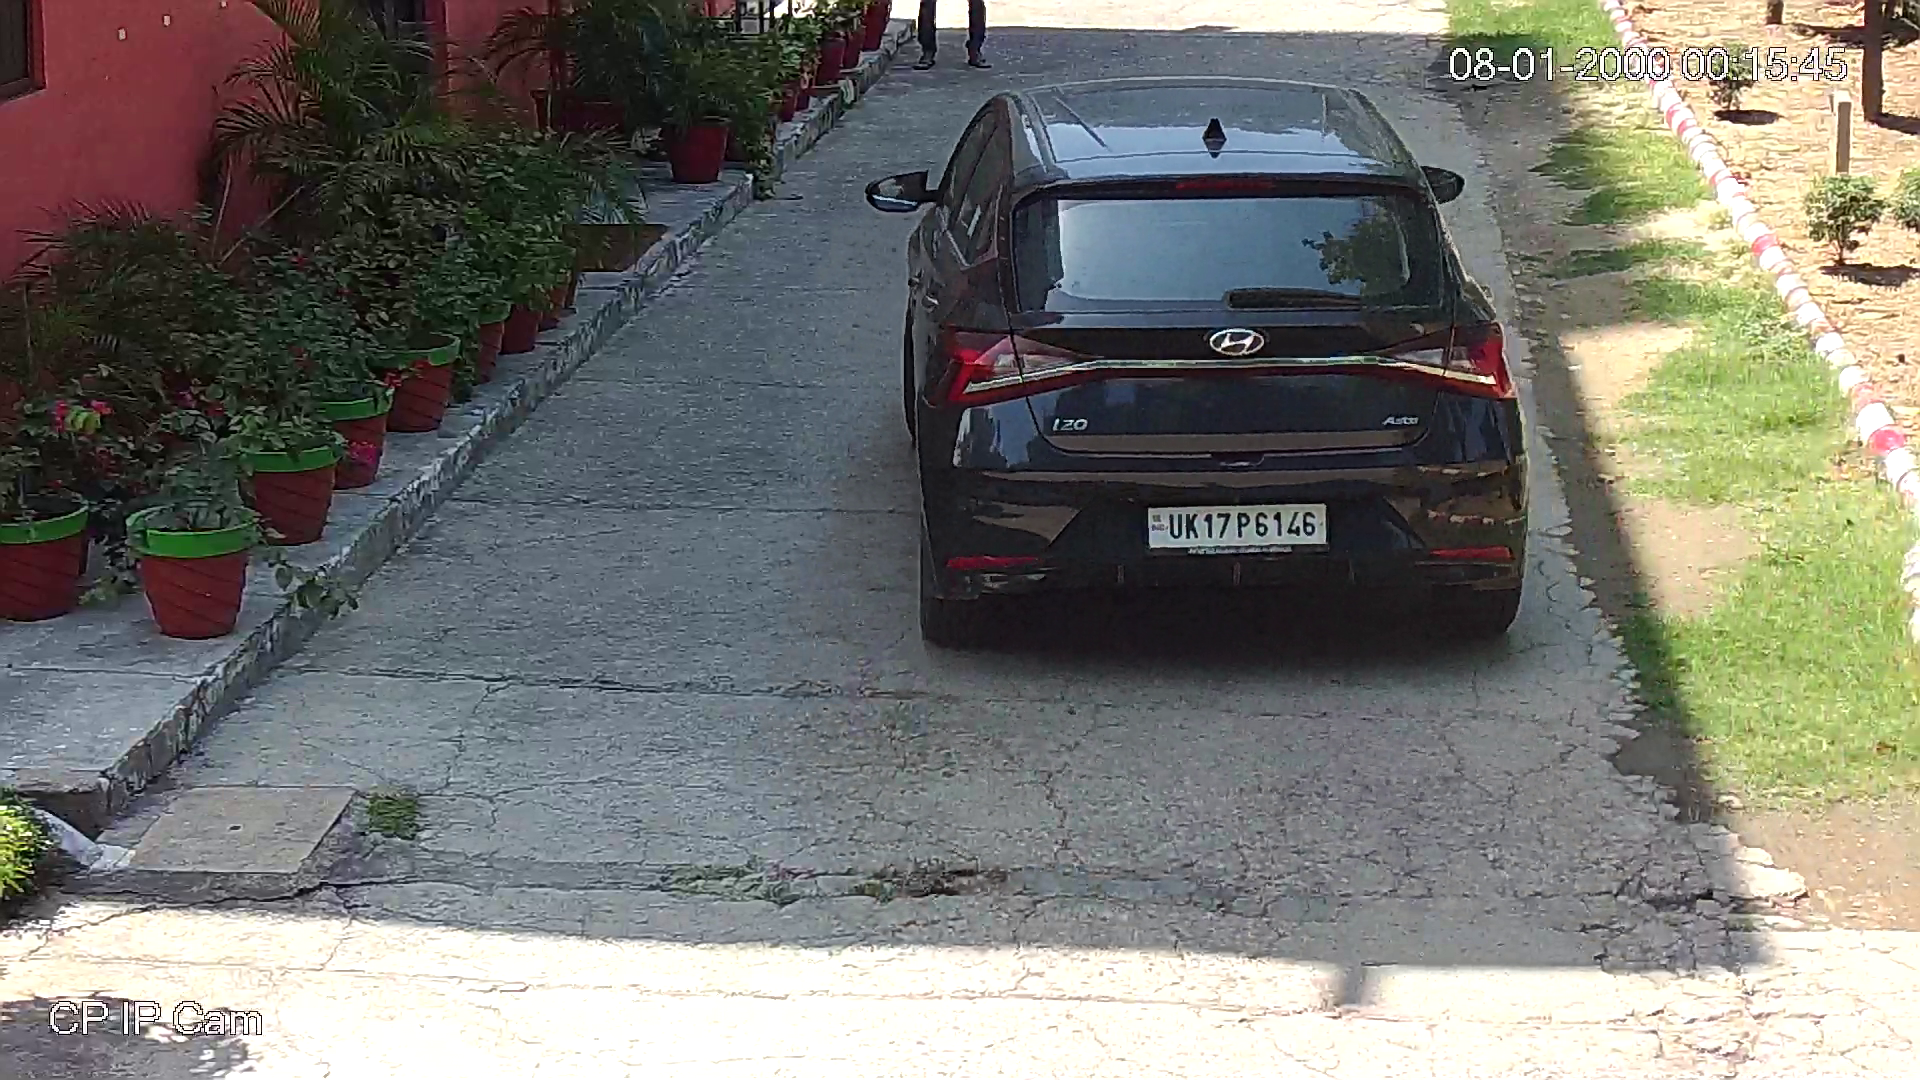plate: (1139, 496, 1331, 556)
